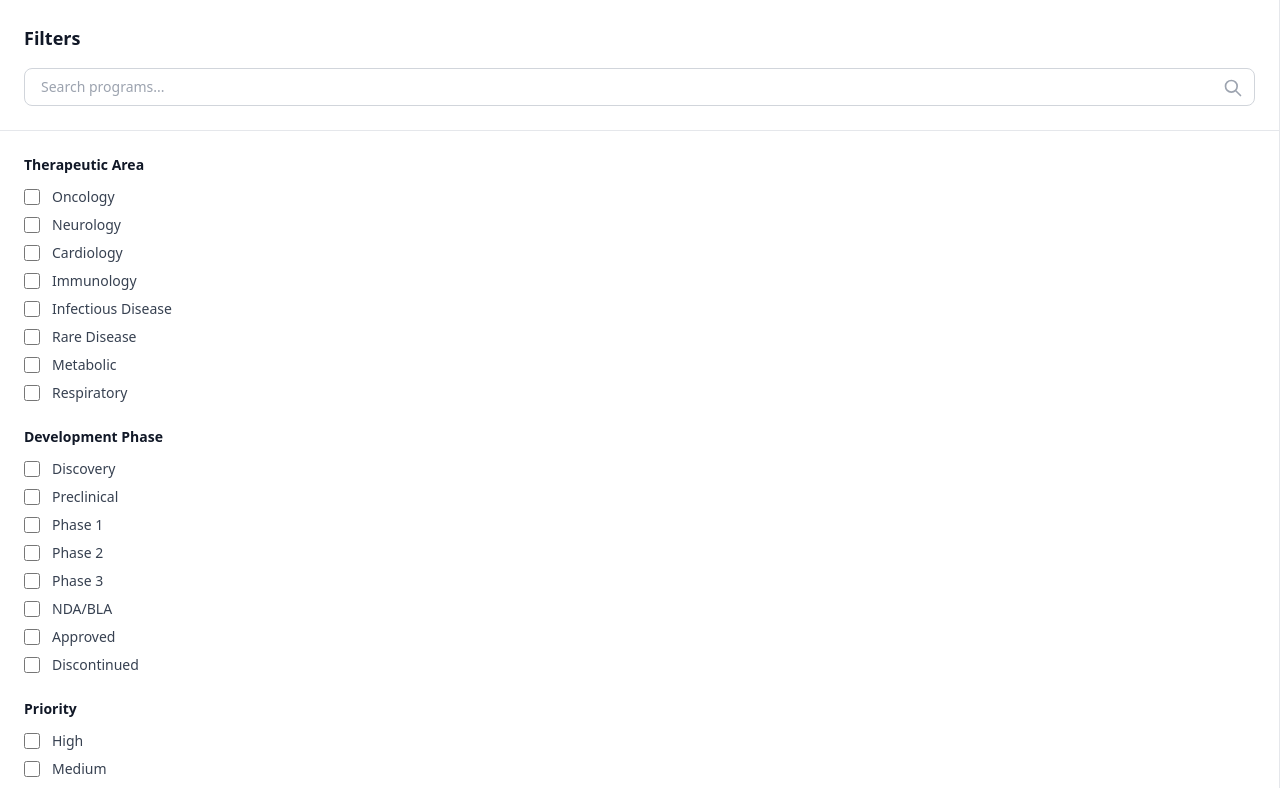
it: FilterPanel all branches › search query combined with checkbox filters
# Enter search query
In the field with placeholder "Search programs...": {"x": 640, "y": 87} [24,68,1255,106], type "cancer"
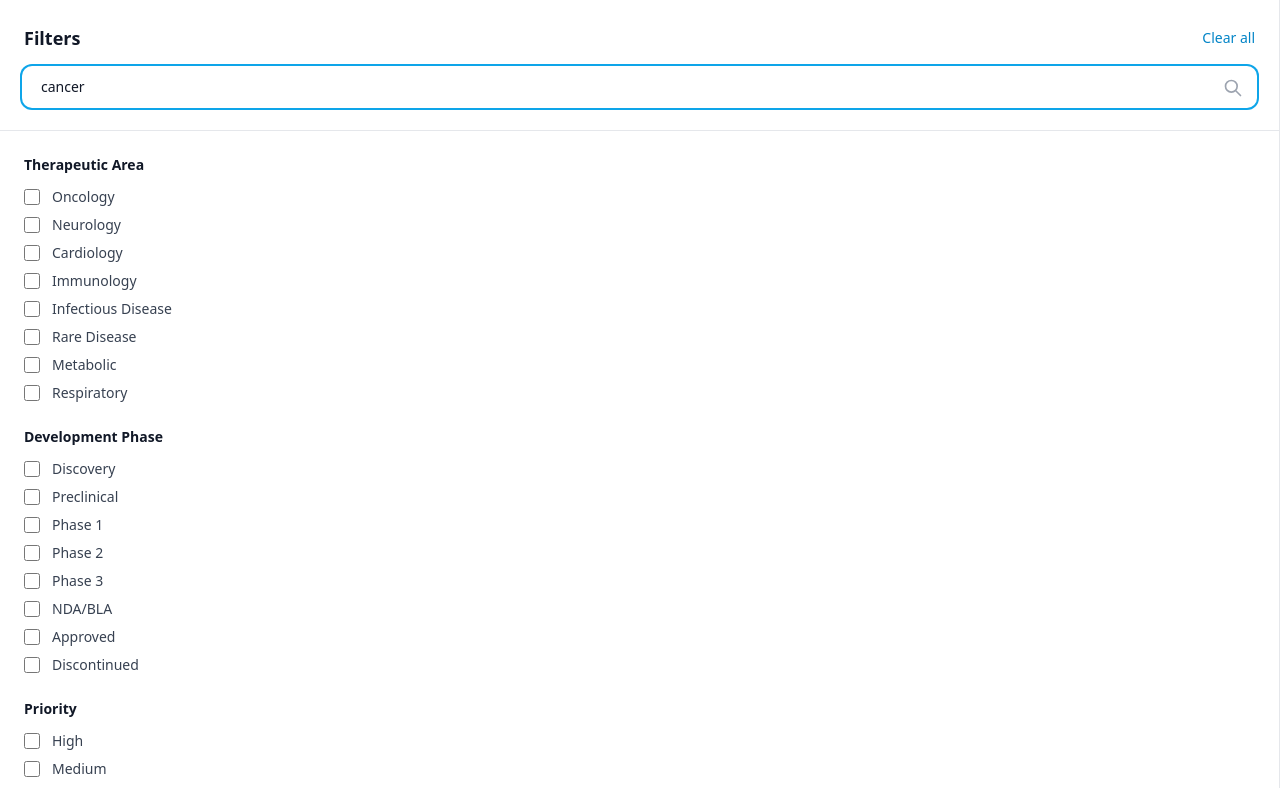
Result: the button "Clear all" is shown at [1202,28,1255,48]
# Add a checkbox filter
Click the text "High": {"x": 68, "y": 741} [52,731,83,751]
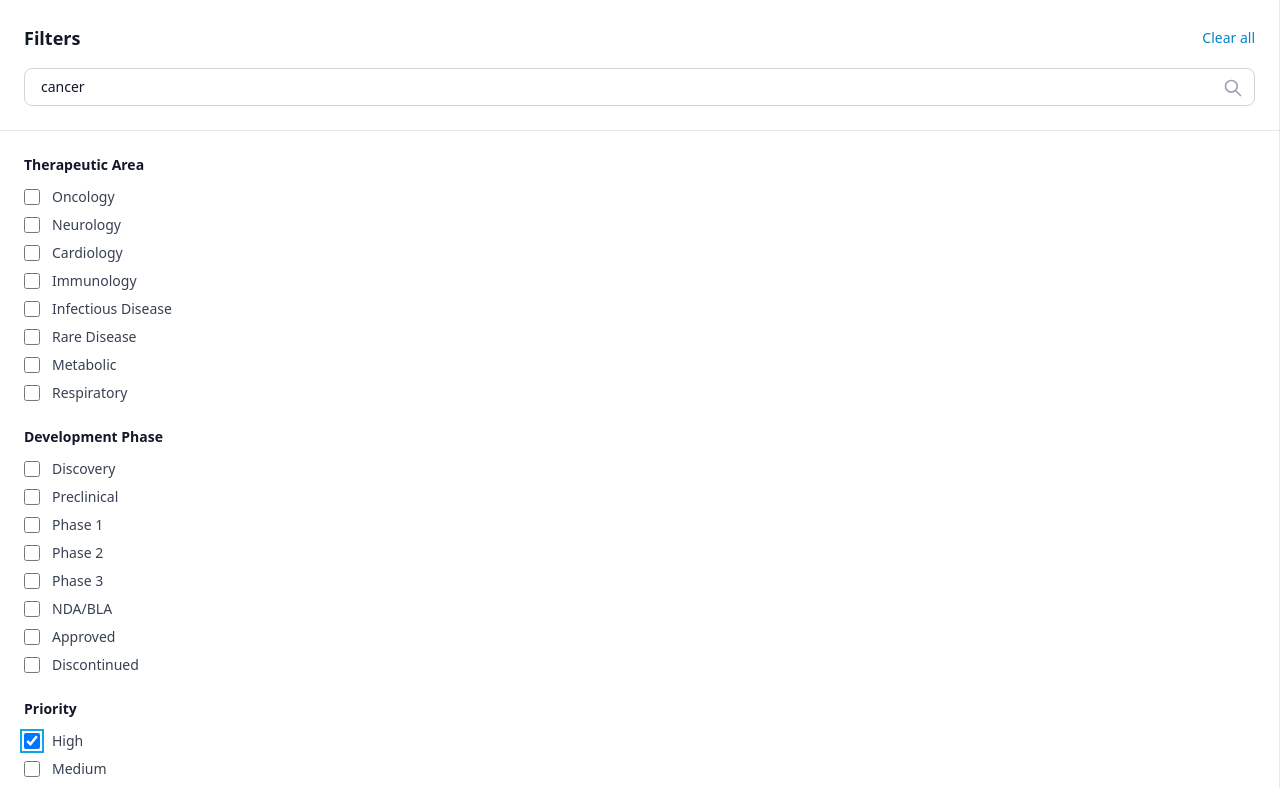
Result: the button "Clear all" is shown
# Clear all
Click the button "Clear all": {"x": 1229, "y": 38} [1202,28,1255,48]
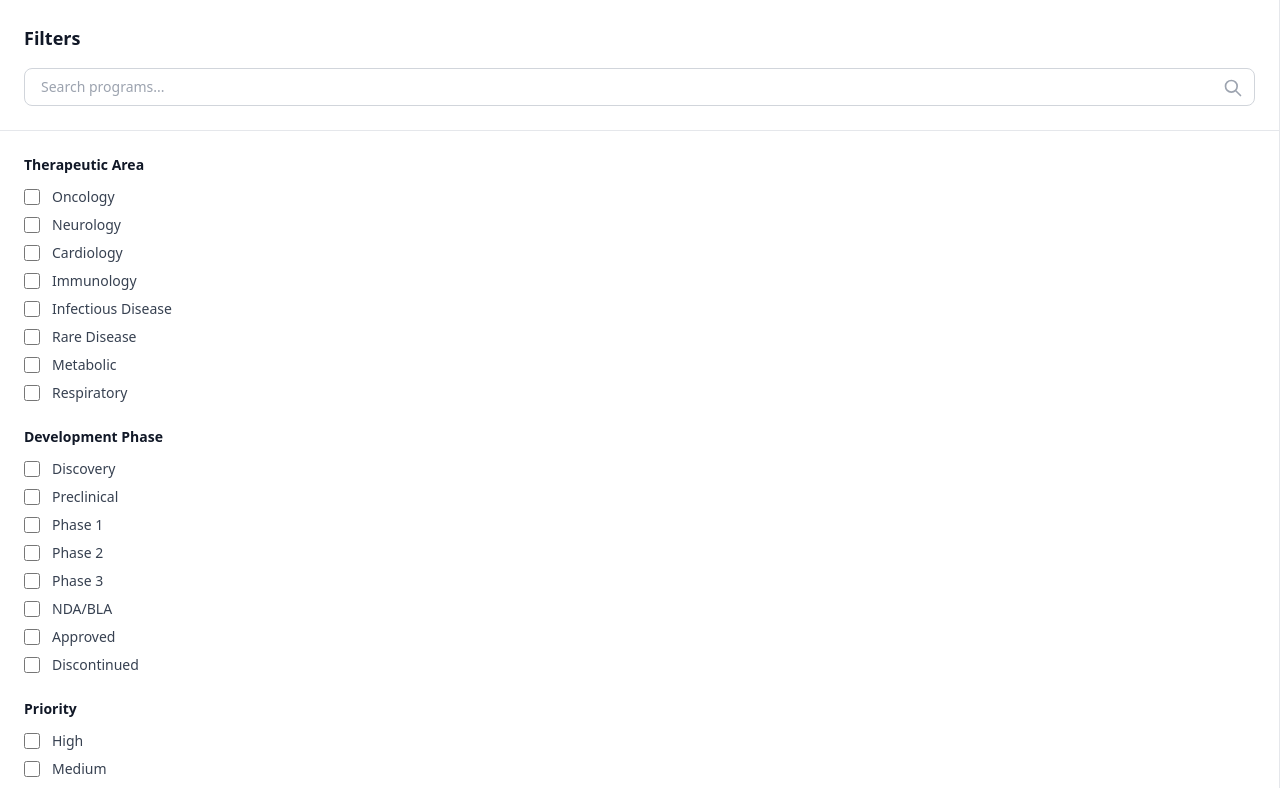
Result: the field with placeholder "Search programs..." is empty at [24,68,1255,106]
Result: the button "Clear all" is gone
